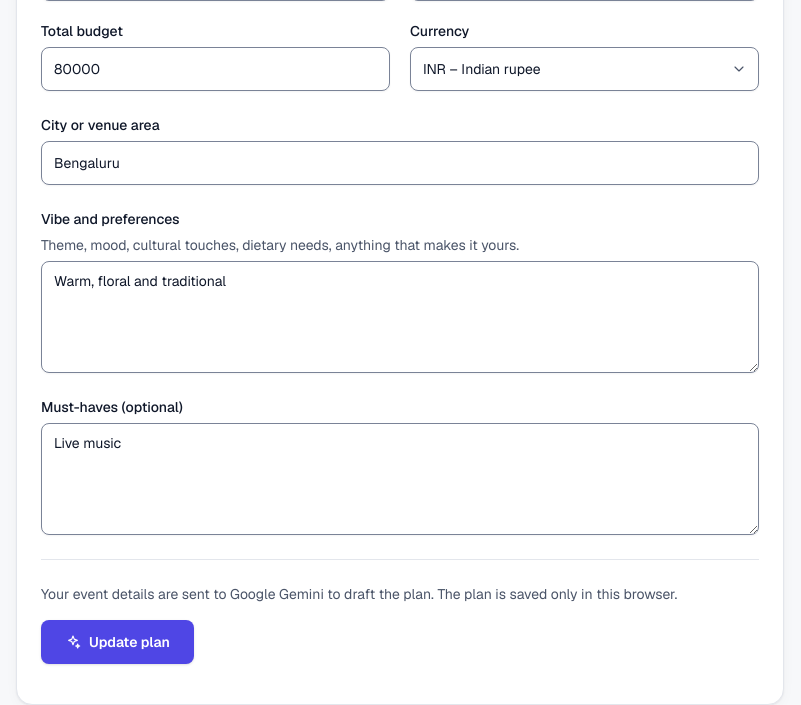
Test: EditEventDetails › can be cancelled without touching the saved plan
The image size is (801, 705).
(page scrolled)
Click the button "Update plan" at (118, 642), box [41,620,194,664]
(page scrolled)
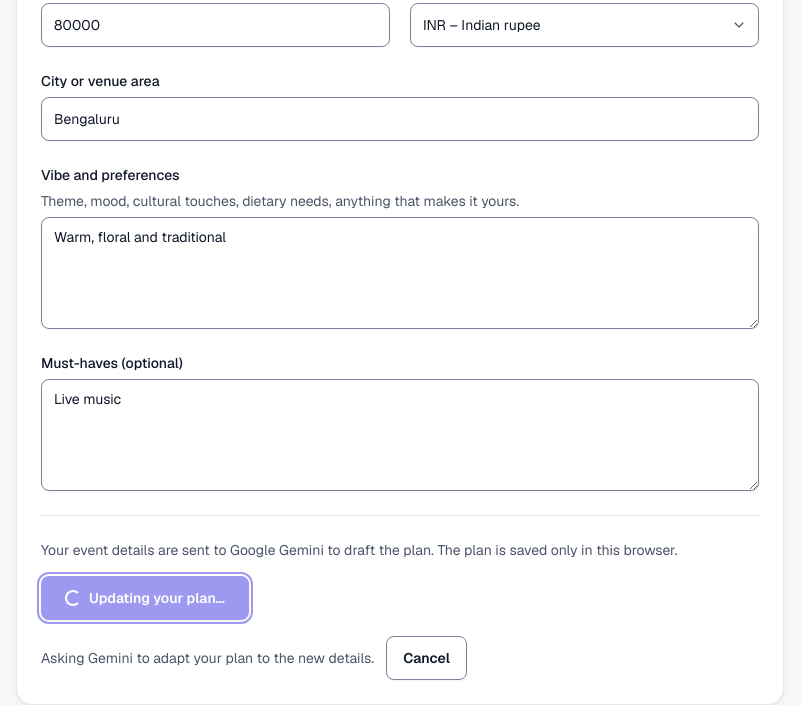
Now the button "Updating your plan…" is shown, box [41,576,249,620]
Now the message shows "adapt your plan to the new details", box [41,649,374,667]
Click the button "Cancel" at (427, 658), box [386,636,467,680]
(page scrolled)
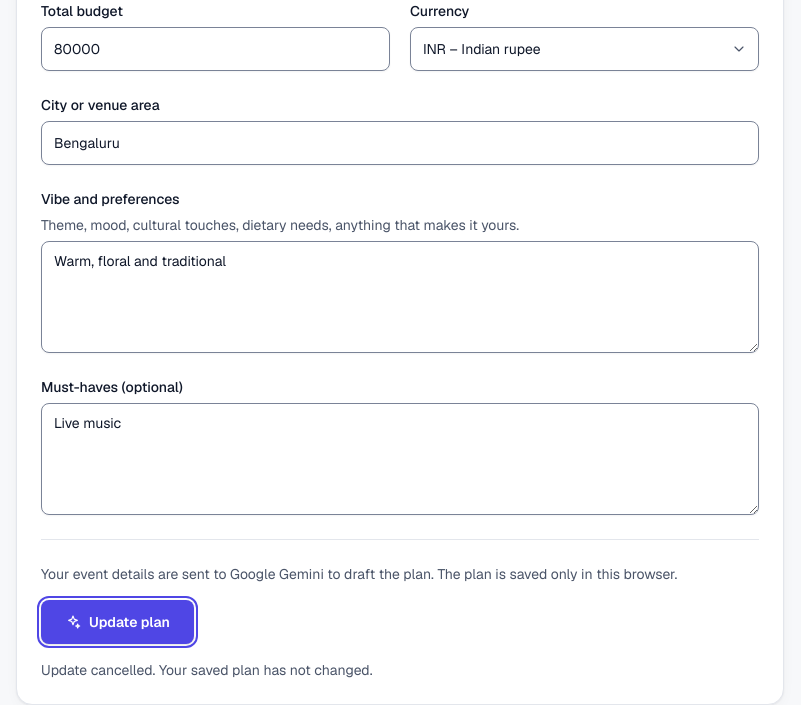
Now the message reads "Update cancelled. Your saved plan has not changed.", box [41,661,372,679]
